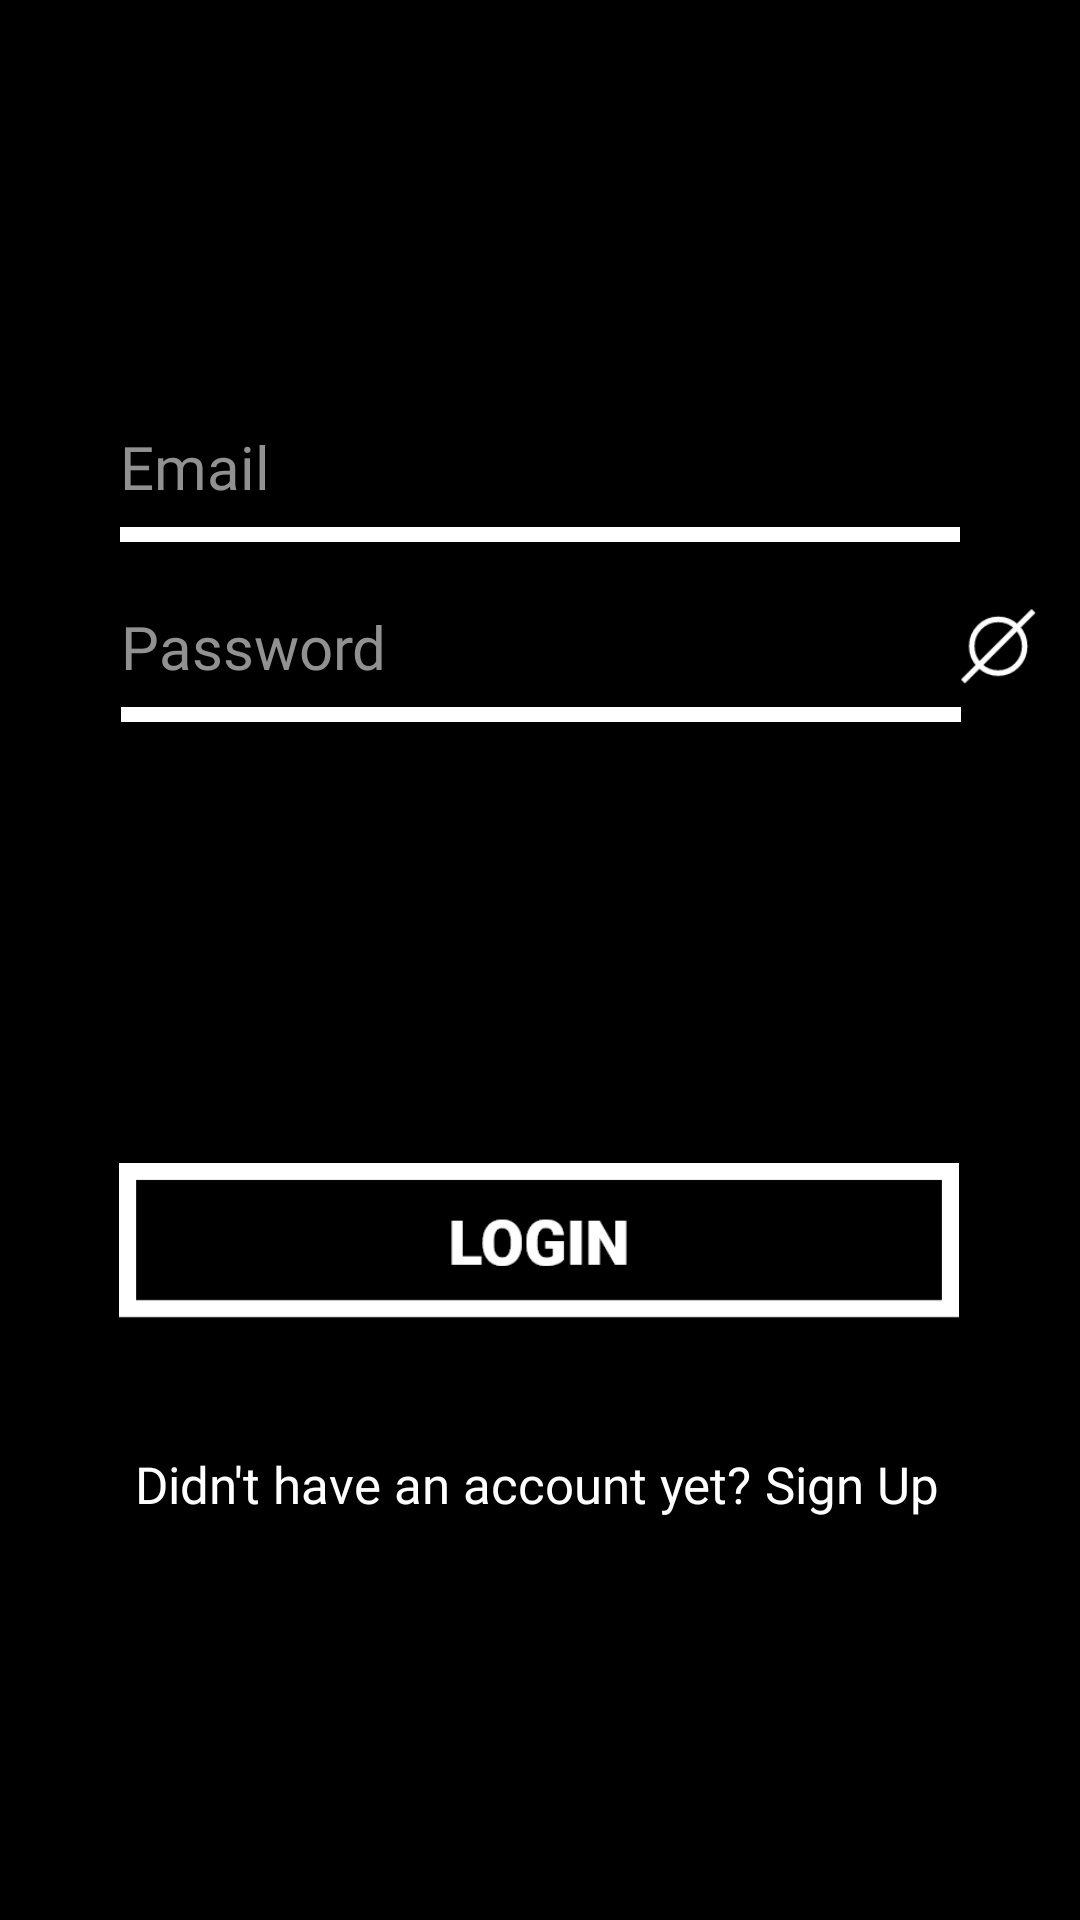

Where to tap for icons on this 1080×1920 app screen, as (x,y):
invisible: (998,646)
